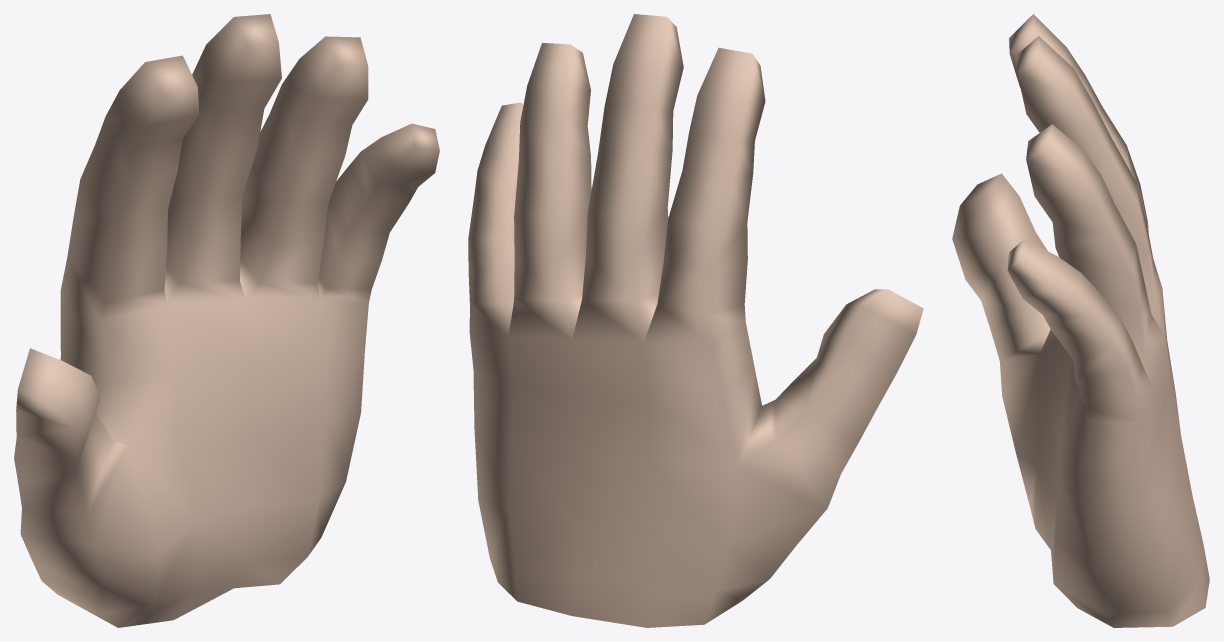
File: hand.fbx
3 renders of one model, left to right at view 1: azimuth 30°, elevation 25°; view 2: azimuth 150°, elevation 25°; view 3: azimuth 270°, elevation 25°, orthographic. The views are drawn at different scales.
Visible parts, largest first — view 1: AnatomyHandHumanMale:hand_basemesh; view 2: AnatomyHandHumanMale:hand_basemesh; view 3: AnatomyHandHumanMale:hand_basemesh.
Part boxes in pixels (x1,y1,x2,y2): AnatomyHandHumanMale:hand_basemesh: (14, 14, 439, 627); AnatomyHandHumanMale:hand_basemesh: (468, 14, 923, 627); AnatomyHandHumanMale:hand_basemesh: (952, 14, 1209, 627).
Bounding box in the file's own units: 14.28 × 18.64 × 7.95.
